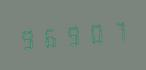nine: (62, 20, 83, 49), (18, 24, 39, 52)
seven: (106, 17, 127, 45)
six: (40, 22, 61, 50)
zero: (84, 19, 105, 47)
